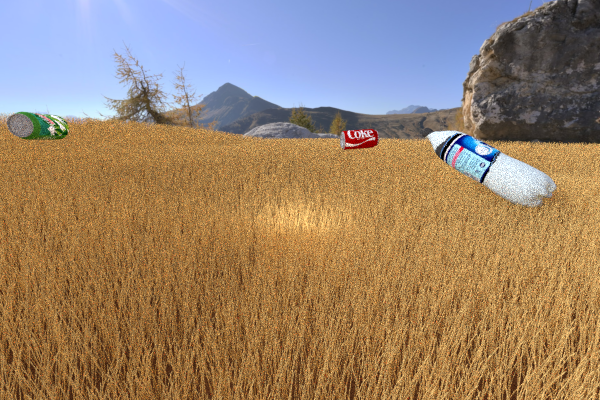Plastic Bottle: (421, 127, 556, 208), (6, 111, 68, 139), (340, 128, 378, 149)
